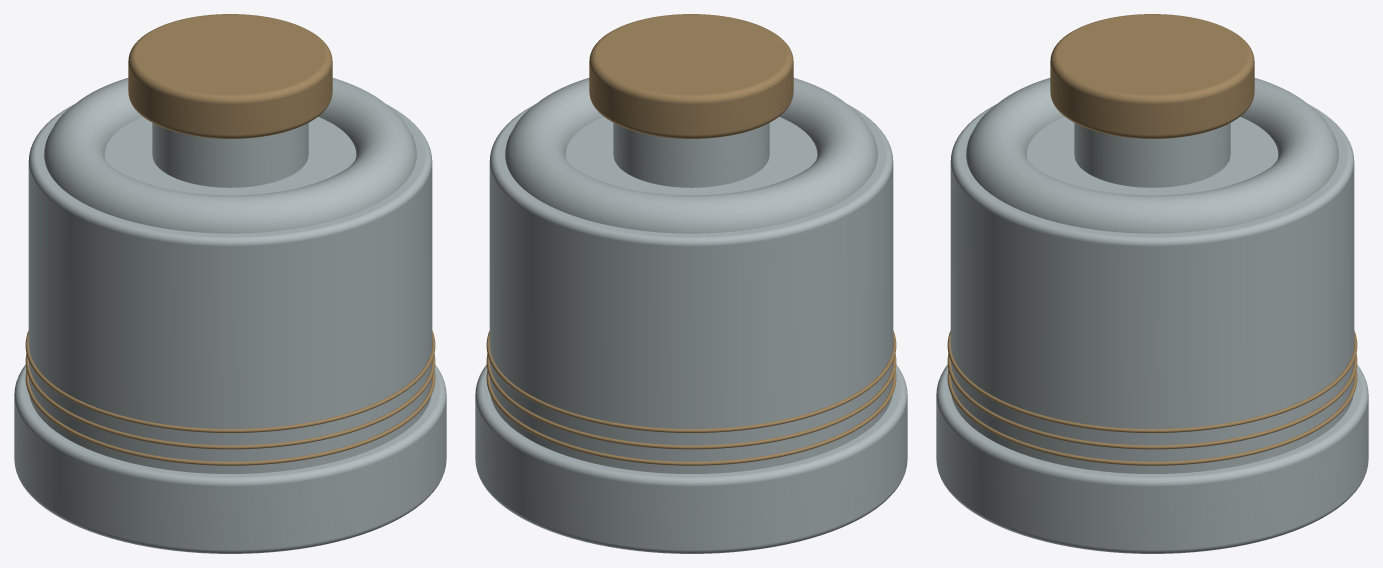
File: calibration_weight.glb
The picture shows the model from 3 angles, left to right: view 1: azimuth 30°, elevation 25°; view 2: azimuth 150°, elevation 25°; view 3: azimuth 270°, elevation 25°; orthographic projection.
Visible parts, largest first — view 1: Machined body, Weight base, Turned shoulder, Grip, Neck, Machining line.002, Machining line, Machining line.001; view 2: Machined body, Weight base, Turned shoulder, Grip, Neck, Machining line.002, Machining line, Machining line.001; view 3: Machined body, Weight base, Turned shoulder, Grip, Neck, Machining line.002, Machining line, Machining line.001.
Boxes of the visible parts, x1,y1,x2,y2 form: Machined body: (28,104,432,473); Weight base: (14,365,446,553); Turned shoulder: (44,78,416,233); Grip: (128,14,332,138); Neck: (152,123,308,187); Machining line.002: (25,331,435,432); Machining line: (25,370,435,465); Machining line.001: (25,353,435,449); Machined body: (489,104,893,473); Weight base: (475,365,907,553); Turned shoulder: (505,78,877,233); Grip: (589,14,793,138); Neck: (613,123,769,187); Machining line.002: (486,331,896,432); Machining line: (486,370,896,465); Machining line.001: (486,353,896,449); Machined body: (950,104,1354,473); Weight base: (936,365,1368,553); Turned shoulder: (966,78,1338,233); Grip: (1050,14,1254,138); Neck: (1074,123,1230,187); Machining line.002: (947,331,1357,432); Machining line: (947,370,1357,465); Machining line.001: (947,353,1357,449).
Size of the model in its own units: 0.36 by 0.377 by 0.36.
